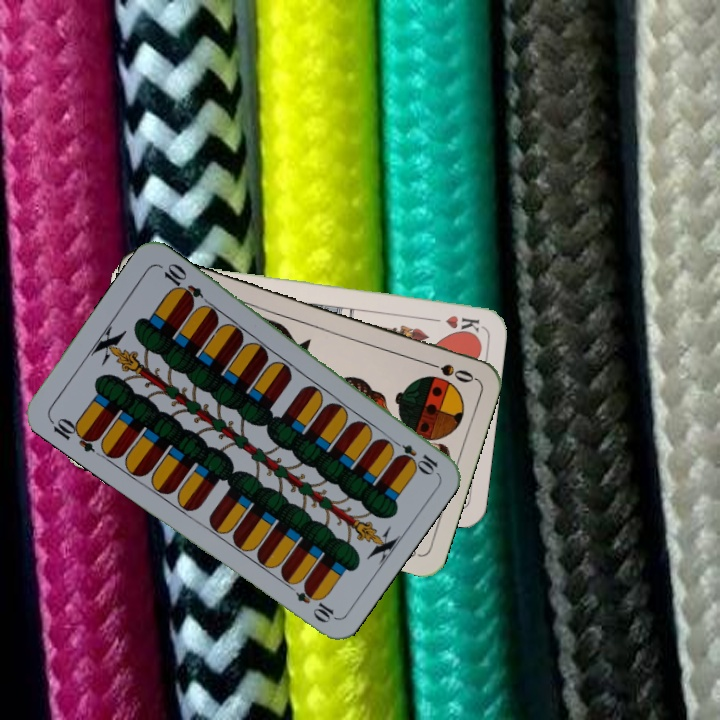E10: (45, 413, 102, 455), (386, 435, 441, 476)
HK: (423, 311, 483, 333)
SO: (419, 357, 477, 386)
